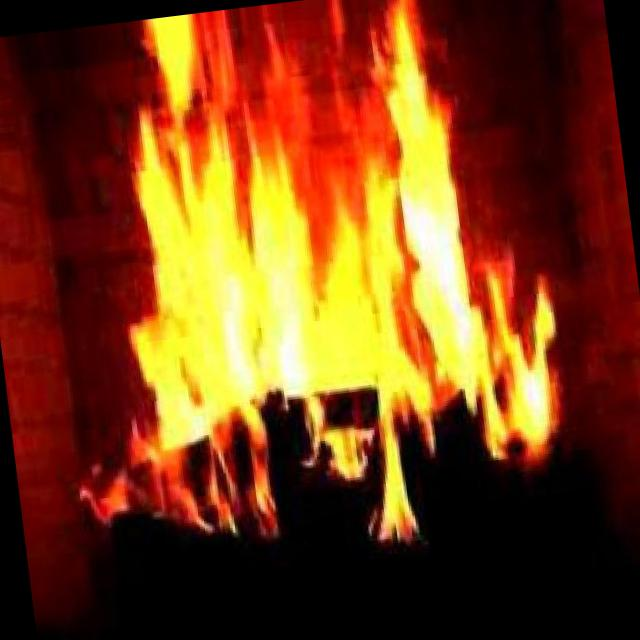Smoke: (13, 0, 590, 595)
